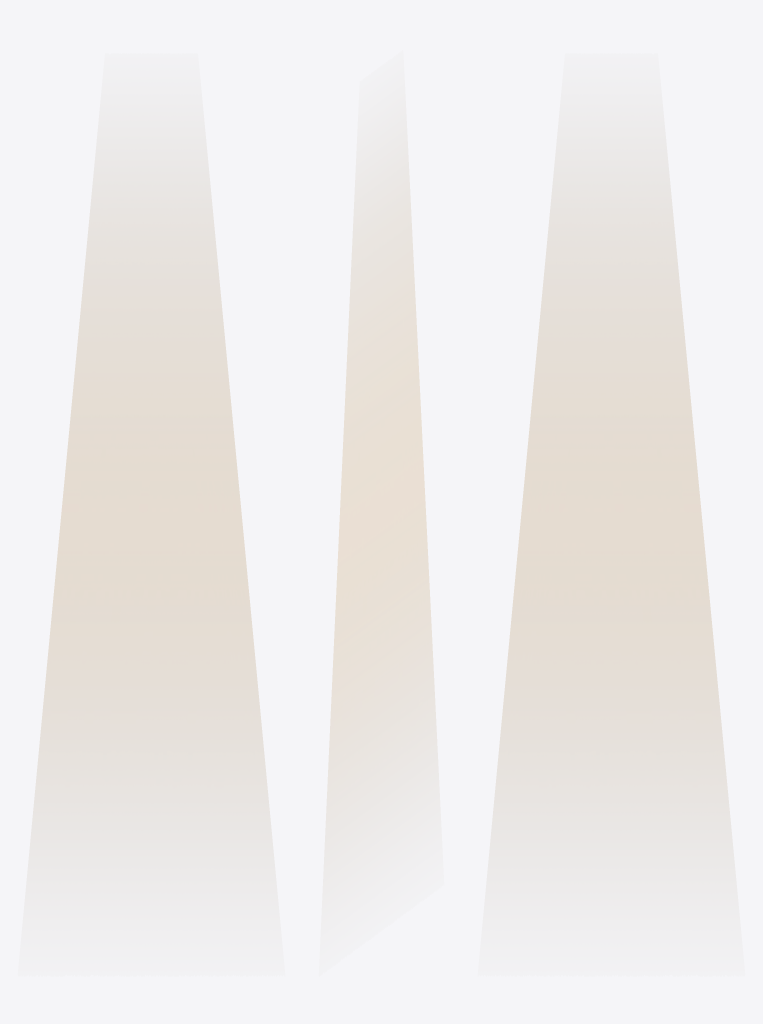
The model's file is entity47458.gltf.
3 views of the same model, side by side, from view 1: azimuth 90°, elevation 25°; view 2: azimuth 150°, elevation 25°; view 3: azimuth 270°, elevation 25° (orthographic). The views are drawn at different scales.
Parts seen in each view (by area): view 1: node_light_ray; view 2: node_light_ray; view 3: node_light_ray.
Boxes of the visible parts, x1,y1,x2,y2 form: node_light_ray: [31, 181, 271, 832]; node_light_ray: [325, 166, 437, 837]; node_light_ray: [491, 181, 731, 832].
Size of the model in its own units: 2.95e-15 by 11.28 by 2.82.
